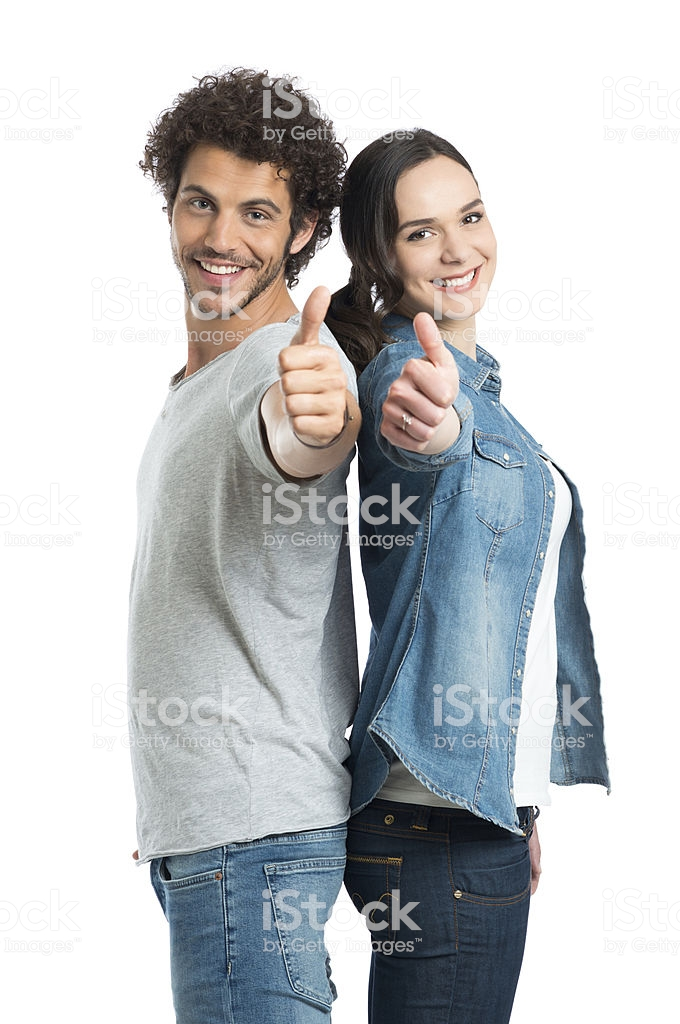thumbsup: (378, 310, 461, 453), (276, 284, 348, 448)
